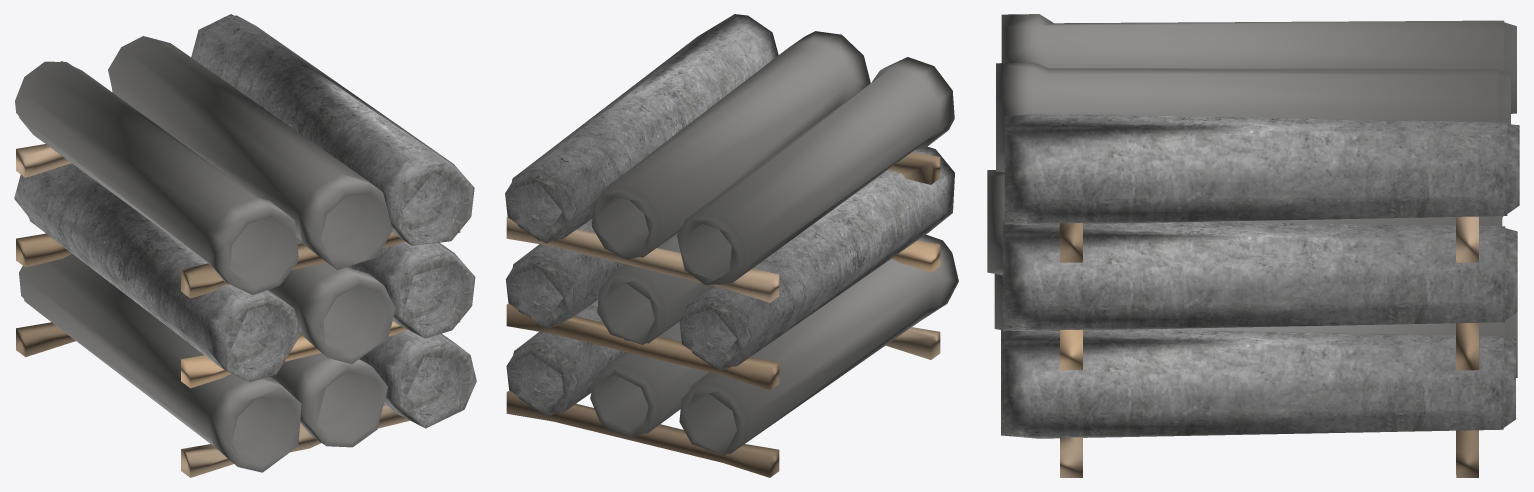
Rendered from pipe-stack.lod0.glb.
The picture shows the model from 3 angles, left to right: view 1: azimuth 30°, elevation 25°; view 2: azimuth 150°, elevation 25°; view 3: azimuth 270°, elevation 25°; orthographic projection. The views are drawn at different scales.
Visible parts, largest first — view 1: pipe_stack_planks_plank3_0, pipe_stack_planks_pipe3_0; view 2: pipe_stack_planks_plank3_0, pipe_stack_planks_pipe3_0; view 3: pipe_stack_planks_pipe3_0, pipe_stack_planks_plank3_0.
Part boxes in pixels (box(x1,y1,x2,y2)): pipe_stack_planks_plank3_0: box(15, 36, 460, 477); pipe_stack_planks_pipe3_0: box(14, 14, 476, 428); pipe_stack_planks_plank3_0: box(506, 31, 958, 477); pipe_stack_planks_pipe3_0: box(505, 14, 954, 416); pipe_stack_planks_pipe3_0: box(1001, 113, 1519, 438); pipe_stack_planks_plank3_0: box(987, 14, 1517, 477).
Size of the model in its own units: 1.63 by 1.6 by 2.32.
2 materials, 1 textured.
